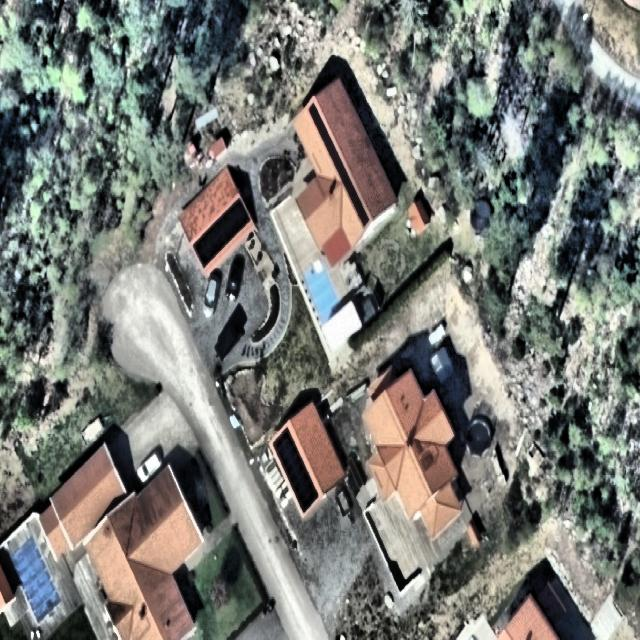roof_pv: (341, 171, 374, 232), (286, 462, 320, 514), (194, 216, 226, 267), (272, 426, 308, 471), (223, 192, 252, 245), (322, 132, 352, 180), (307, 99, 331, 145)
